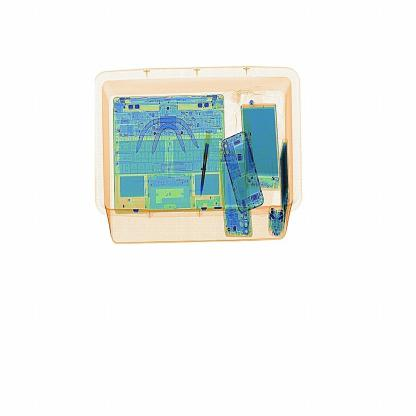gun: (194, 121, 214, 203)
